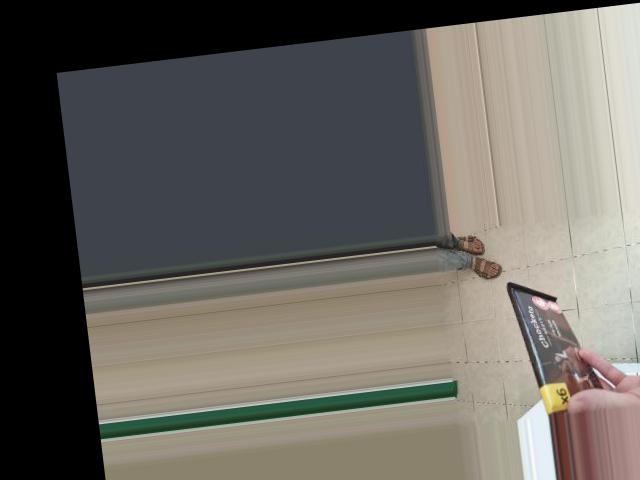chocolate: (490, 235, 640, 366)
